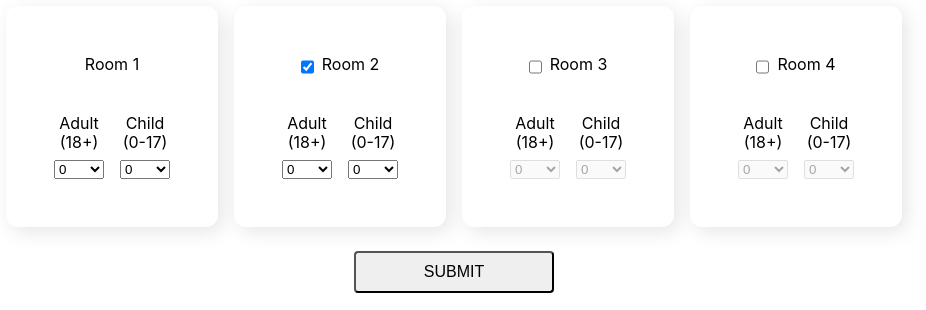
Room 2 checkbox interaction › If Room 2 is unchecked, Room 3 and 4 are also unchecked
The width and height of the screenshot is (926, 310).
# User checks Room 4, which checks Rooms 2 and 3
Click the checkbox with test id "heading-input-tag-4". click: (763, 67)
box: x1=756 y1=57 x2=769 y2=77
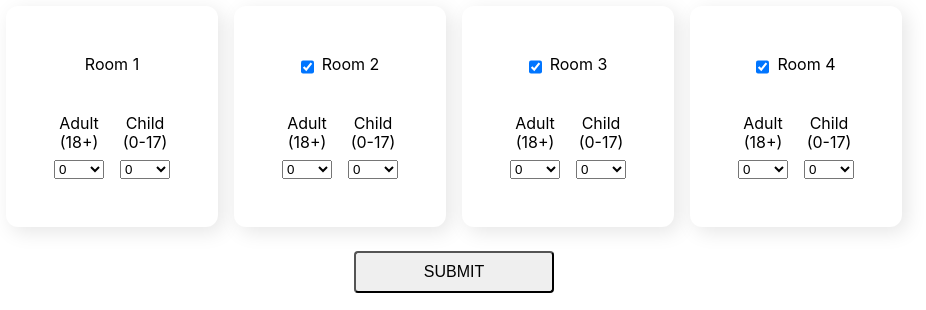
# User checks Room 2, which unchecks Rooms 3 and 4
Click the checkbox with test id "heading-input-tag-2". click: (307, 67)
box: x1=301 y1=57 x2=314 y2=77
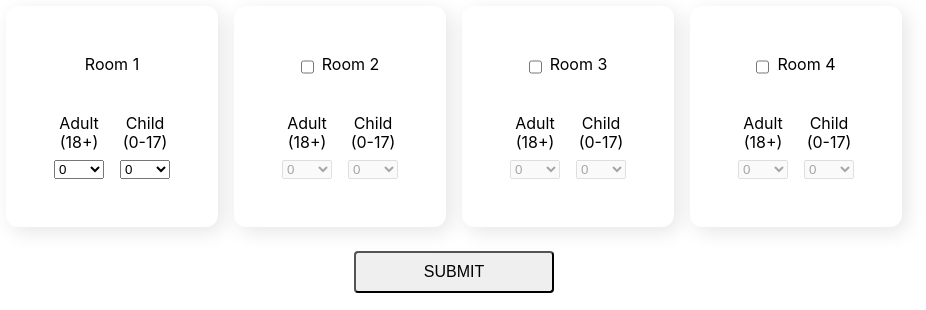
Result: the checkbox with test id "heading-input-tag-4" is not checked at x1=756 y1=57 x2=769 y2=77
Result: the checkbox with test id "heading-input-tag-3" is not checked at x1=529 y1=57 x2=542 y2=77
